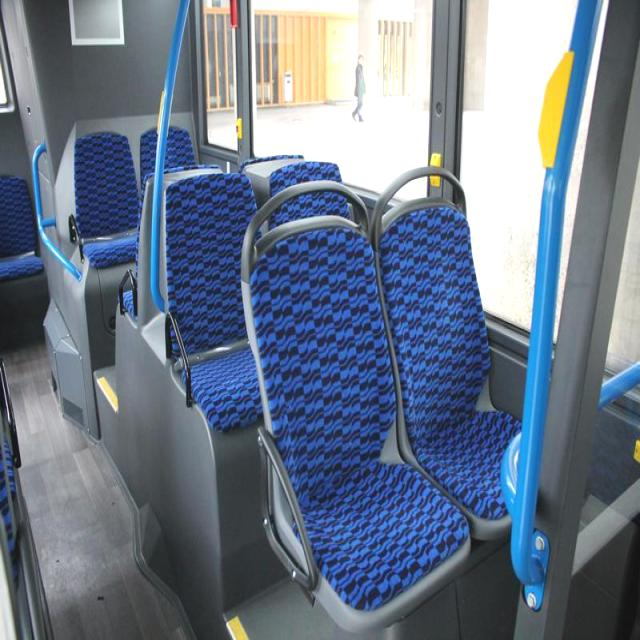asiento-libre: (236, 181, 474, 631), (370, 164, 533, 536), (138, 165, 278, 426), (70, 128, 140, 270), (0, 174, 47, 294), (140, 126, 198, 196)
